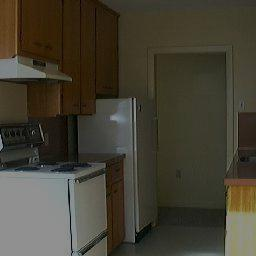Electrodomestico: (0, 128, 105, 253), (130, 97, 156, 232)
